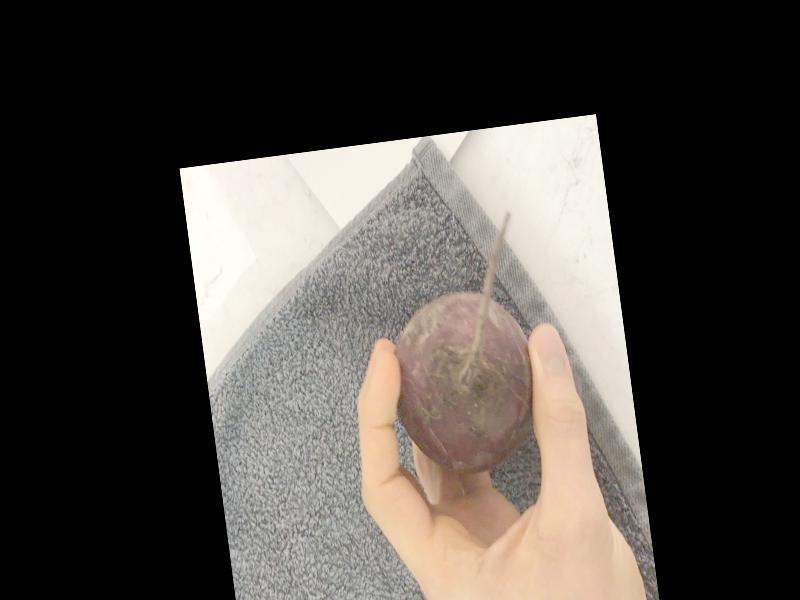Beet: (373, 210, 544, 480)
